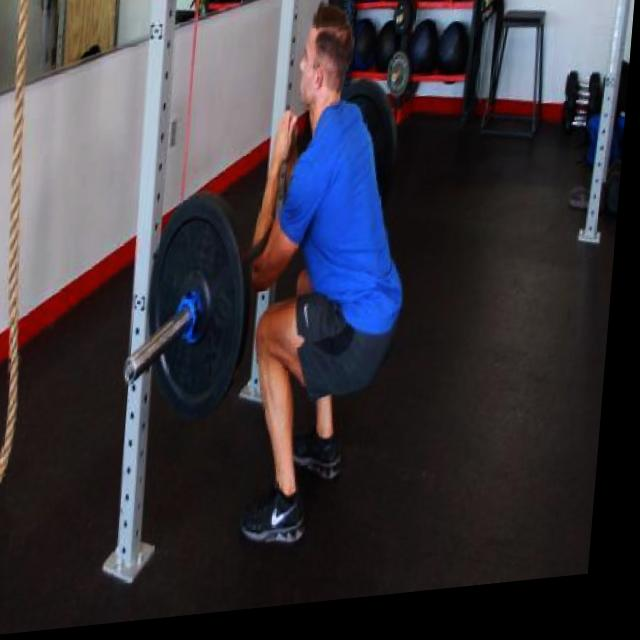barbell: (127, 196, 257, 431)
